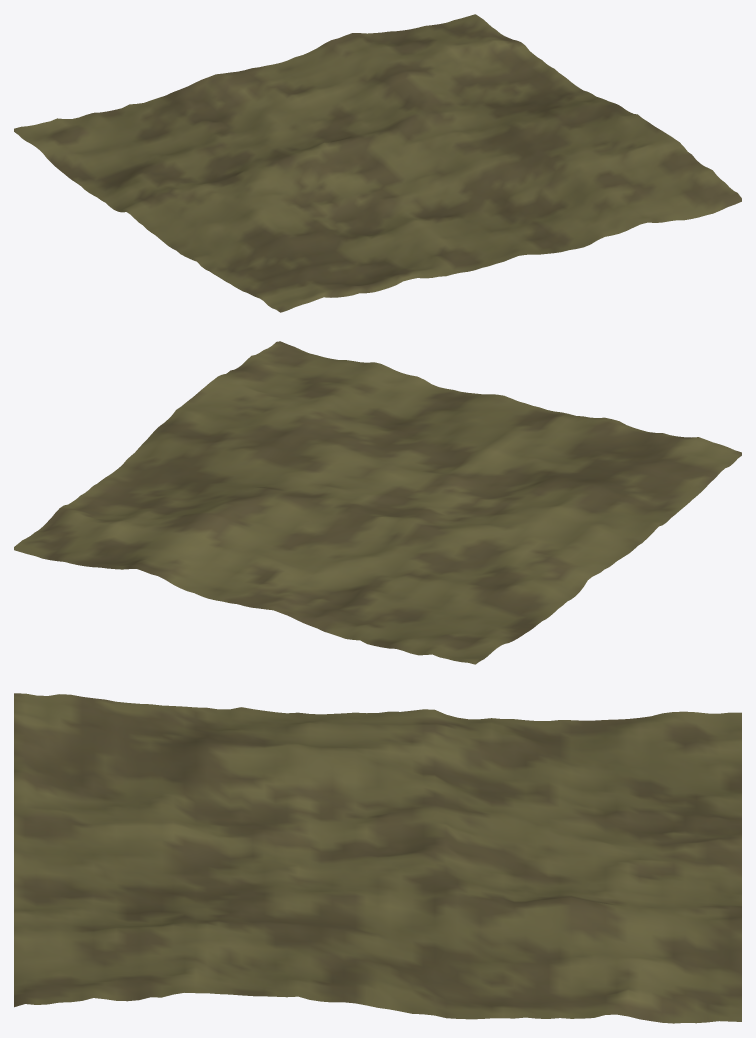
The model's file is land_f_01_01.glb.
The picture shows the model from 3 angles, top to bottom: view 1: azimuth 30°, elevation 25°; view 2: azimuth 150°, elevation 25°; view 3: azimuth 270°, elevation 25°; orthographic projection. The views are drawn at different scales.
Visible parts, largest first — view 1: land_f_01_01; view 2: land_f_01_01; view 3: land_f_01_01.
Boxes of the visible parts, <box> form: land_f_01_01: <box>14,14,741,312</box>; land_f_01_01: <box>14,341,741,664</box>; land_f_01_01: <box>14,693,741,1023</box>.
Size of the model in its own units: 3840 by 259 by 3840.
